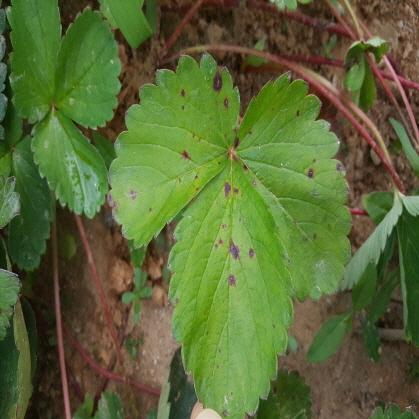Leaf Spot: (164, 153, 294, 418), (236, 69, 353, 304), (106, 50, 240, 250)
